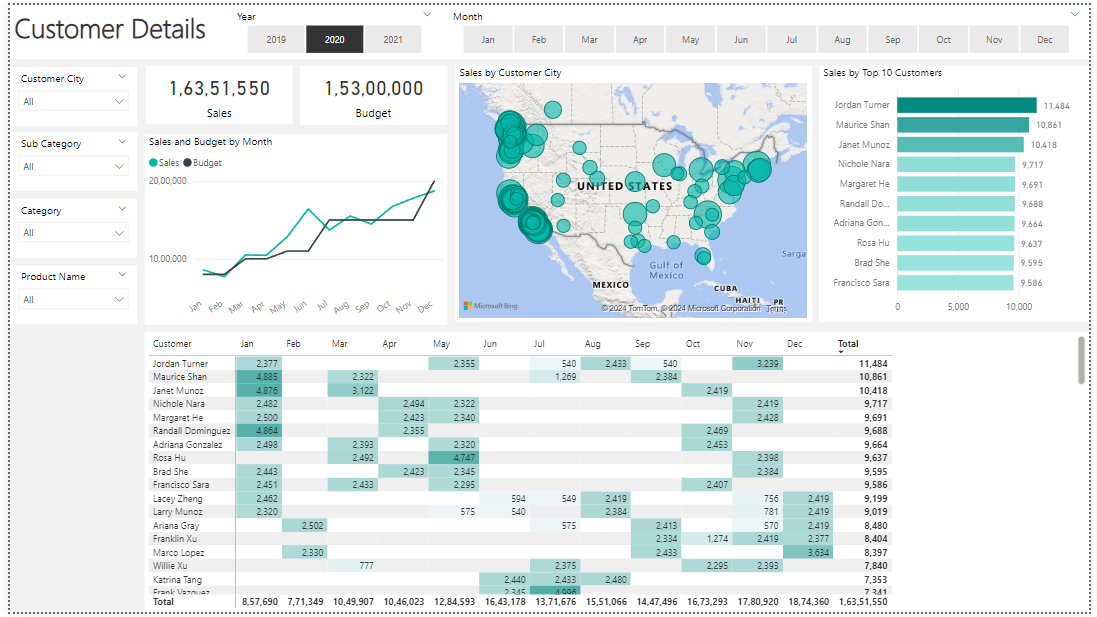

The page's visual inventory and layout, read from the dashboard file:
{"tool":"powerbi","page":{"name":"Customer Details","canvas":[1280,720],"ordinal":1},"visuals":[{"type":"textbox","box":[0,0,1280,64],"z":0},{"type":"slicer","fields":{"Values":["DIM_Calendar.Year"]},"box":[256,0,256,64],"z":1000},{"type":"slicer","fields":{"Values":["DIM_Calendar.MonthShort"]},"box":[512,0,768,64],"z":2000},{"type":"slicer","fields":{"Values":["DIM_Customers.Customer City"]},"box":[0,73,150.5,69.3],"z":3000},{"type":"slicer","fields":{"Values":["DIM_Products.Product Category"]},"box":[0,229.9,150.5,69.3],"z":4000},{"type":"slicer","fields":{"Values":["DIM_Products.Product Name"]},"box":[0,308.4,150.5,69.3],"z":5000},{"type":"slicer","fields":{"Values":["DIM_Products.Sub Category"]},"box":[0,151.4,150.5,69.3],"z":6000},{"type":"lineChart","fields":{"Category":["DIM_Calendar.MonthShort"],"Y":["Analysis Metrics.Sales","Analysis Metrics.Budget"]},"box":[159.8,151.8,358.7,226.4],"z":7000},{"type":"card","fields":{"Values":["Analysis Metrics.Sales"]},"box":[160.7,72.8,174,69.2],"z":8000},{"type":"map","fields":{"Category":["DIM_Customers.Customer City"],"Size":["Analysis Metrics.Sales"]},"box":[527.3,72.8,423.5,304.5],"z":9000},{"type":"card","fields":{"Values":["Analysis Metrics.Budget"]},"box":[343.6,72.8,174.9,70.1],"z":10000},{"type":"pivotTable","fields":{"Rows":["DIM_Customers.Full Name"],"Columns":["DIM_Calendar.MonthShort"],"Values":["Analysis Metrics.Sales"]},"box":[159.8,387.1,1120.4,332.9],"z":11000},{"type":"barChart","title":"Sales by Top 10 Customers","fields":{"Category":["DIM_Customers.Full Name"],"Y":["Analysis Metrics.Sales"]},"box":[959.7,72.8,320.5,304.5],"z":12000}]}

Visuals, with their boxes in screenshot pixels (x1, y1, x2, y2), scaled from the page's 1280x720 canvas onto the 1097x617 screenshot:
textbox: detection(0, 0, 1096, 55)
slicer - DIM_Calendar.Year: detection(219, 0, 439, 55)
slicer - DIM_Calendar.MonthShort: detection(439, 0, 1096, 55)
slicer - DIM_Customers.Customer City: detection(0, 63, 129, 122)
slicer - DIM_Products.Product Category: detection(0, 197, 129, 256)
slicer - DIM_Products.Product Name: detection(0, 264, 129, 324)
slicer - DIM_Products.Sub Category: detection(0, 130, 129, 189)
lineChart - DIM_Calendar.MonthShort x Analysis Metrics.Sales: detection(137, 130, 444, 324)
card - Analysis Metrics.Sales: detection(138, 62, 287, 122)
map - DIM_Customers.Customer City x Analysis Metrics.Sales: detection(452, 62, 815, 323)
card - Analysis Metrics.Budget: detection(294, 62, 444, 122)
pivotTable - DIM_Customers.Full Name x DIM_Calendar.MonthShort: detection(137, 332, 1096, 616)
"Sales by Top 10 Customers" barChart: detection(822, 62, 1096, 323)
